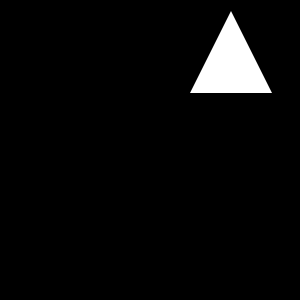triangle: (190, 11, 272, 93)
